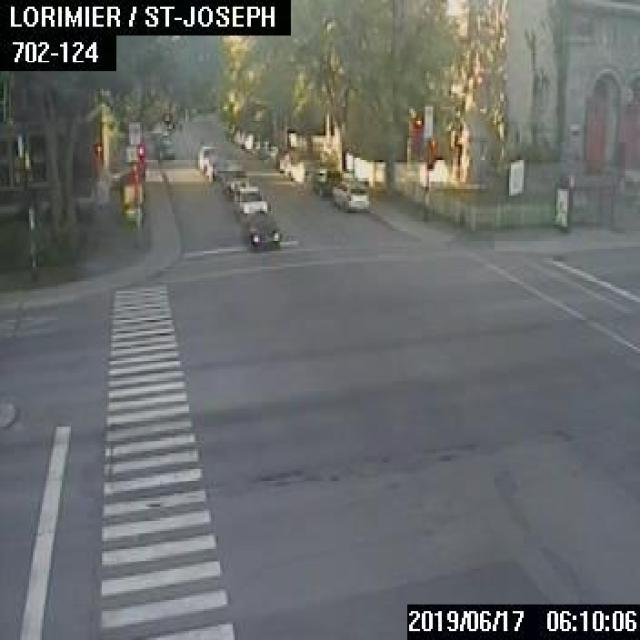vehicle: (244, 210, 279, 250), (331, 180, 369, 211), (214, 162, 248, 194), (233, 186, 266, 218), (307, 166, 341, 194), (288, 159, 318, 183), (278, 151, 302, 176), (197, 144, 217, 170), (205, 155, 225, 180), (267, 144, 280, 165), (156, 141, 172, 157), (243, 132, 253, 148)
